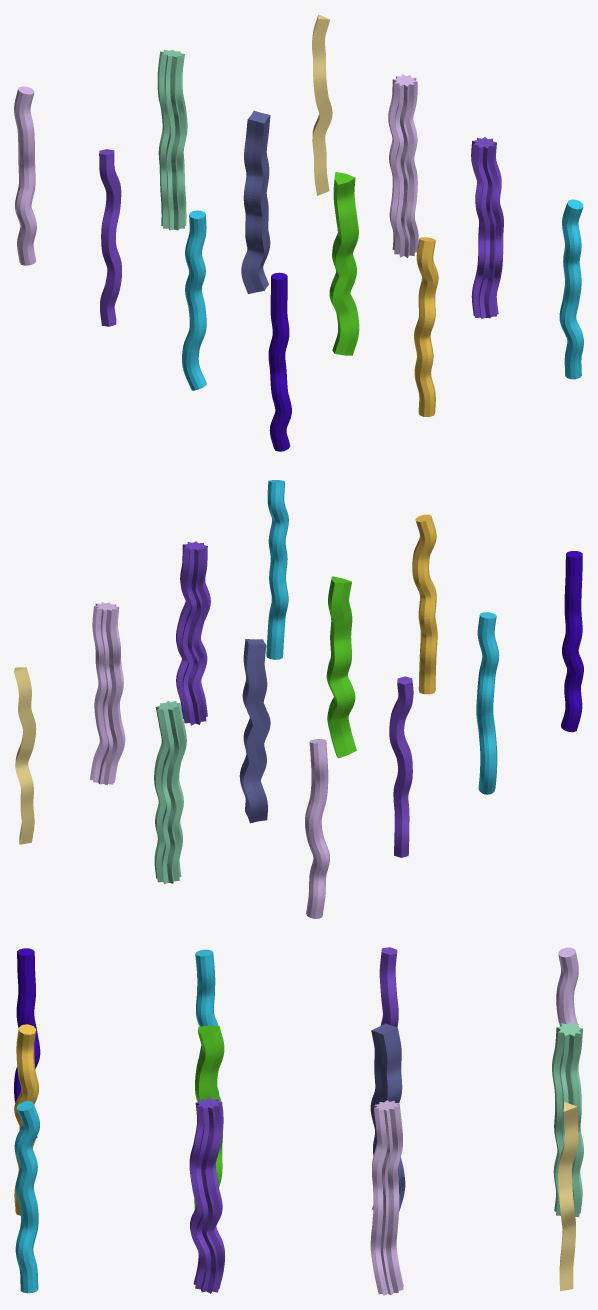
Rendered from phong_flat_mats_1_OpenedSplineTest_2023-06-04-21-23-00.gltf.
3 renders of one model, top to bottom at view 1: azimuth 30°, elevation 25°; view 2: azimuth 150°, elevation 25°; view 3: azimuth 270°, elevation 25°, orthographic. The views are drawn at different scales.
Size of the model in its own units: 435 by 232 by 632.
